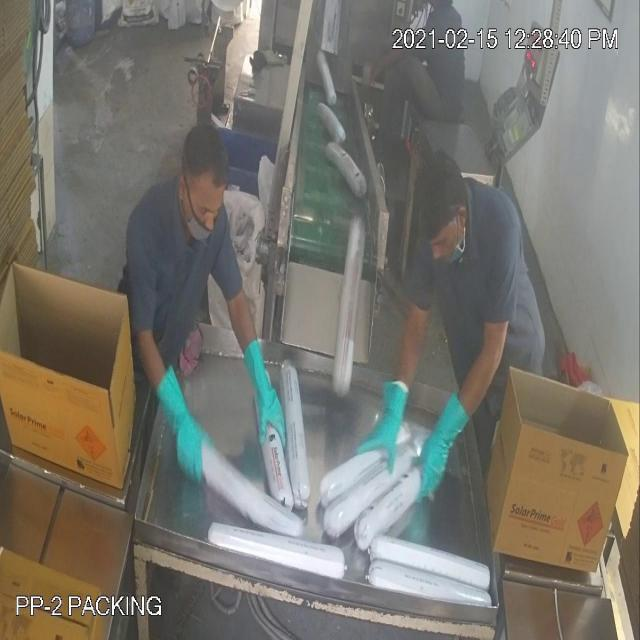Gloves: (55, 129, 444, 443)
